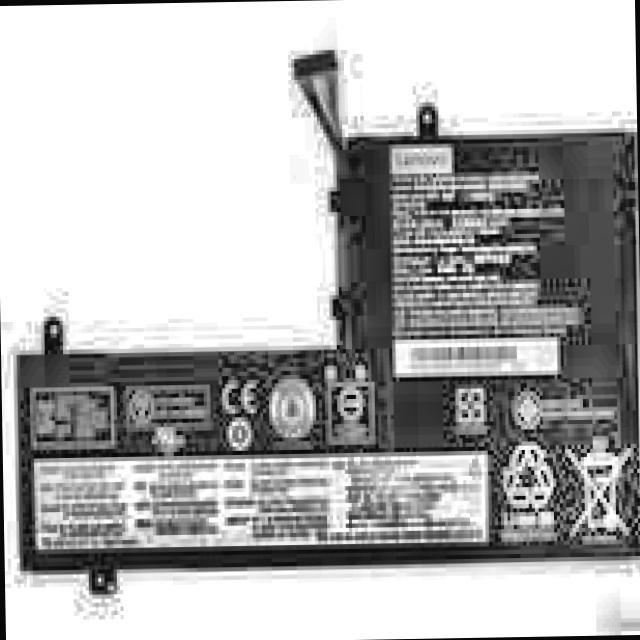Battery: (9, 127, 640, 570)
